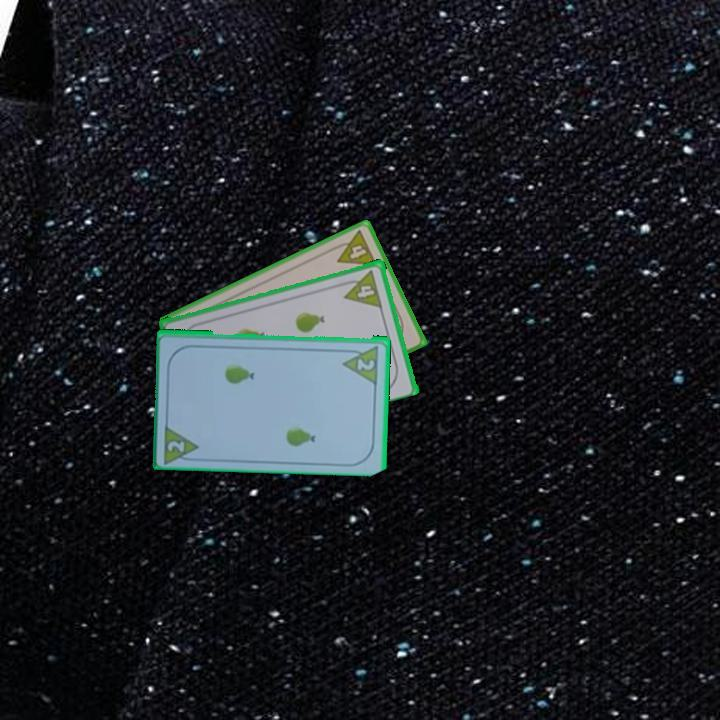2p: (354, 354, 378, 373), (164, 437, 188, 454)
4p: (328, 226, 380, 268), (343, 279, 382, 310)
